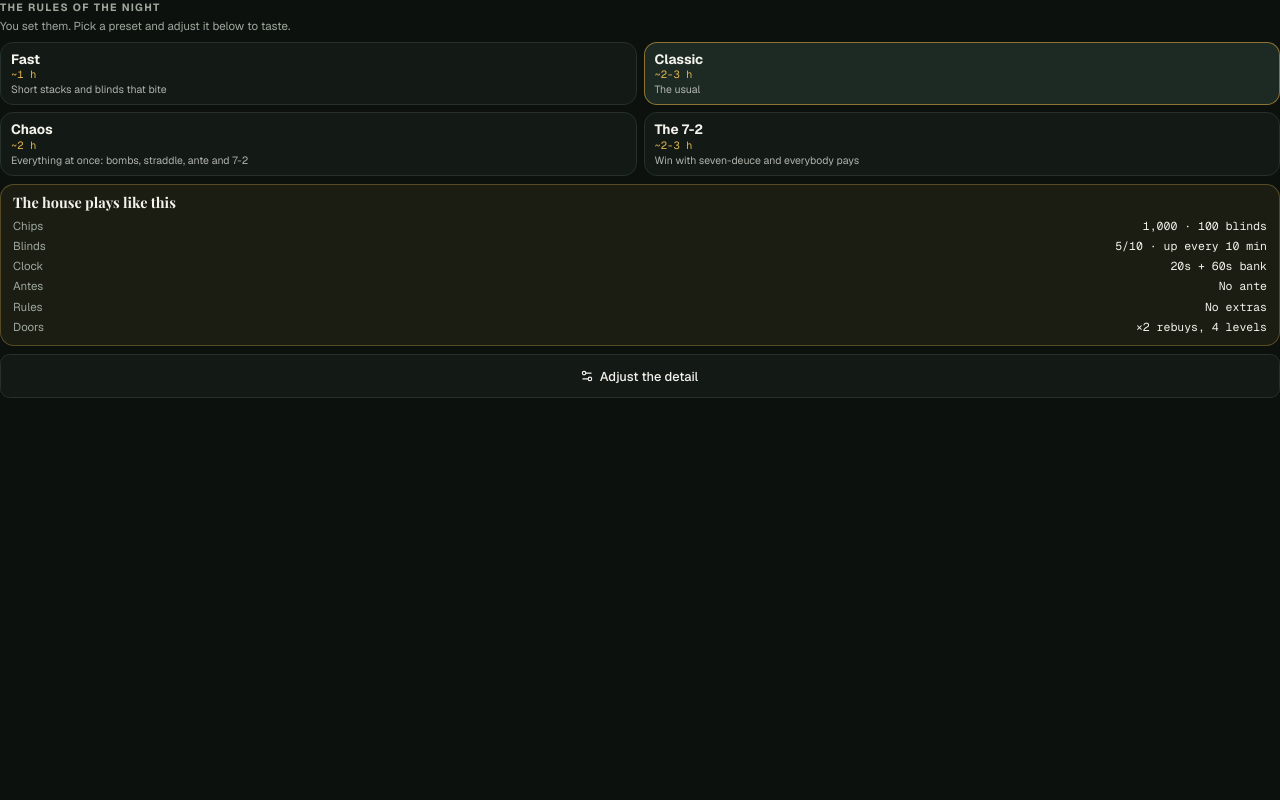
it: the detail sheet › lets a number out of the choices offered
The width and height of the screenshot is (1280, 800).
Click the button "Adjust the detail" at (640, 376), box [0,354,1279,398]
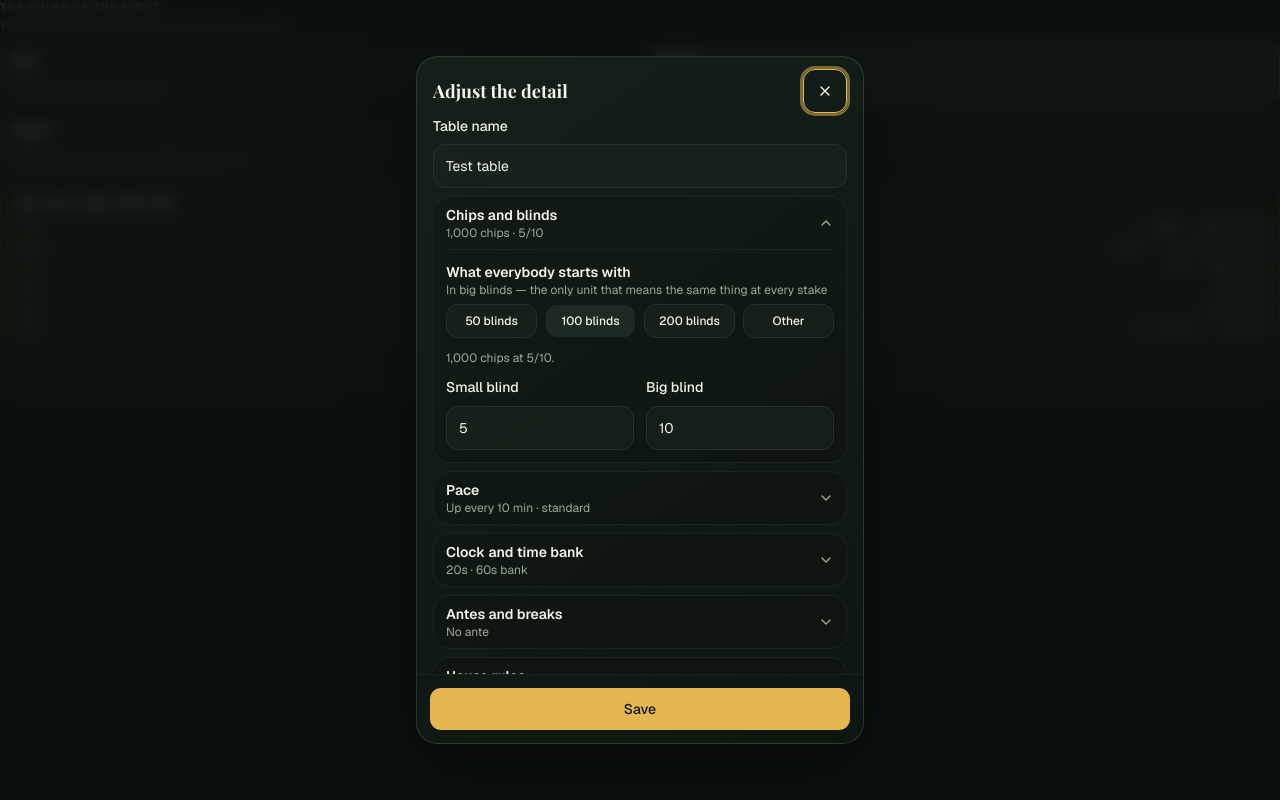
Click the button "Other" at (788, 321), box [743,304,834,338]
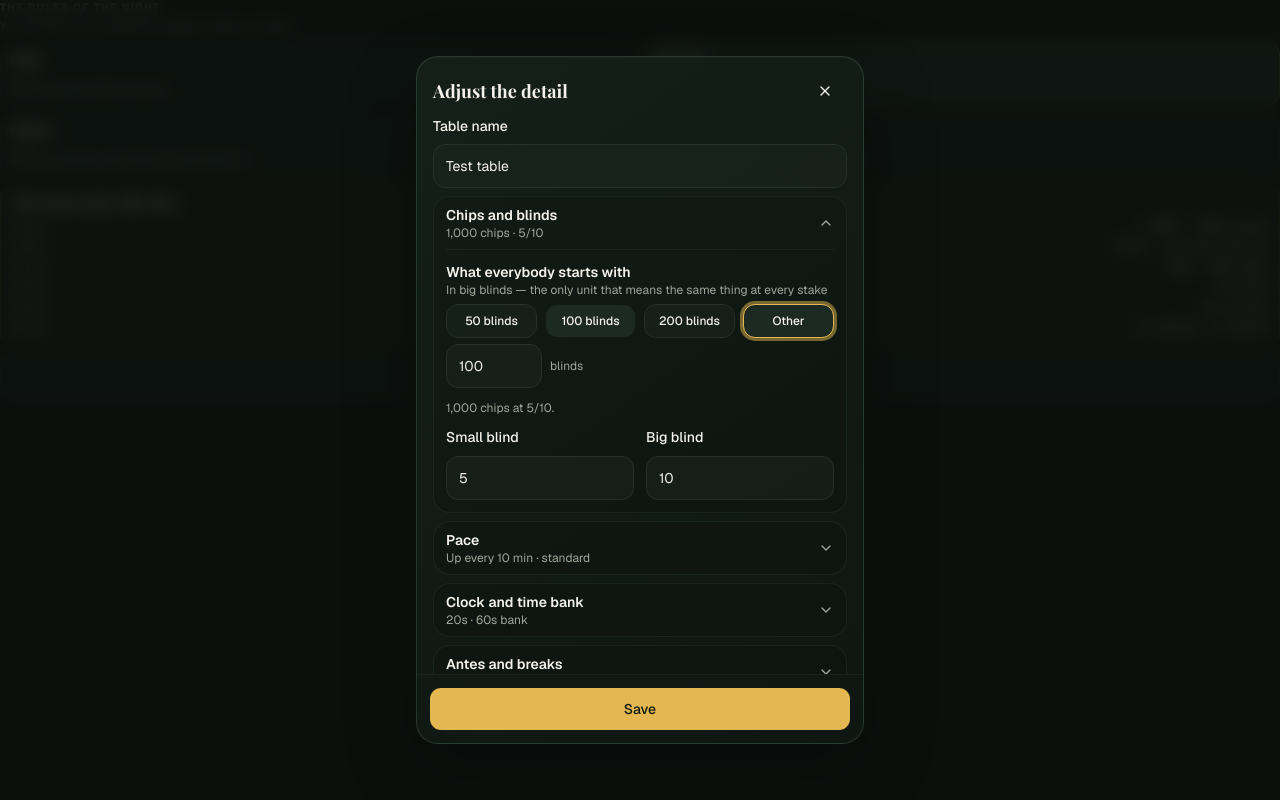
Replace the text in the field named "What everybody starts with, exact value" with "150" at (494, 366), box [446,344,542,388]
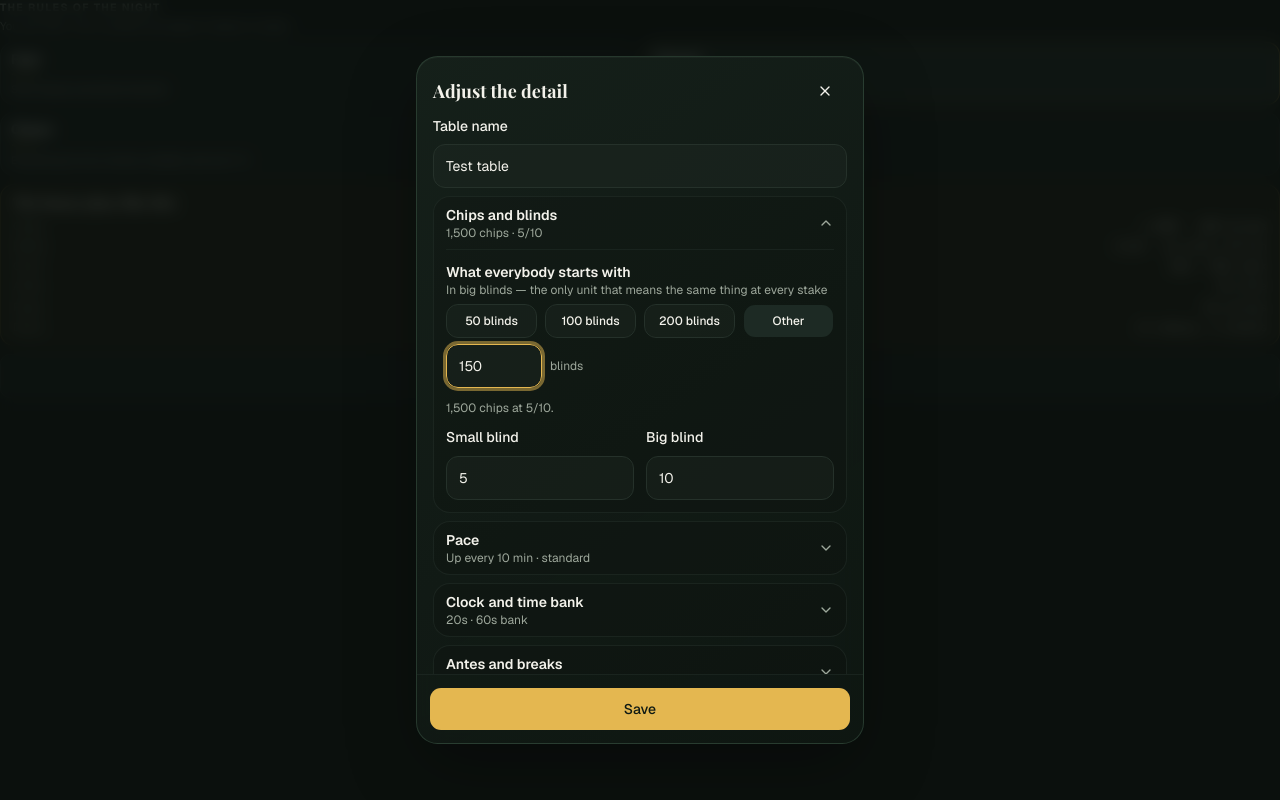
Check: the text "1,500 chips at 5/10." is shown, box [446,400,553,416]
